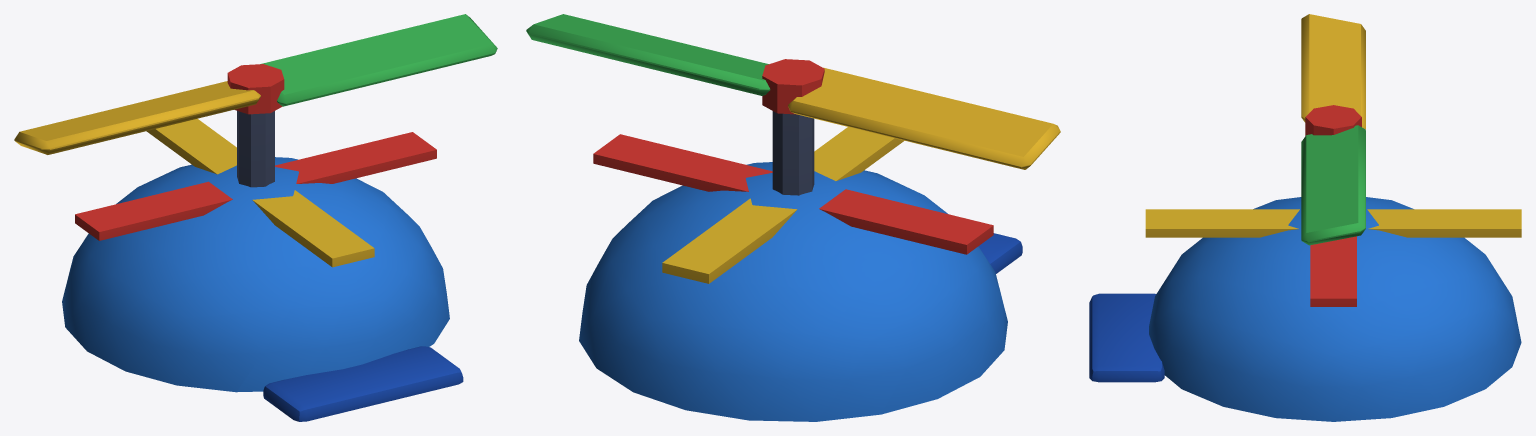
File: lo_hat_propeller.glb
3 views of the same model, side by side, from view 1: azimuth 30°, elevation 25°; view 2: azimuth 150°, elevation 25°; view 3: azimuth 270°, elevation 25° (orthographic). The views are drawn at different scales.
Visible parts, largest first — view 1: body, spin_prop; view 2: body, spin_prop; view 3: body, spin_prop.
Boxes of the visible parts, box(x1,y1,x2,y2) form: body: box(62, 111, 463, 421); spin_prop: box(14, 14, 497, 154); body: box(579, 111, 1022, 421); spin_prop: box(526, 14, 1060, 169); body: box(1089, 197, 1521, 421); spin_prop: box(1301, 14, 1365, 245).
Bounding box in the file's own units: 0.54 × 0.265 × 0.46.
